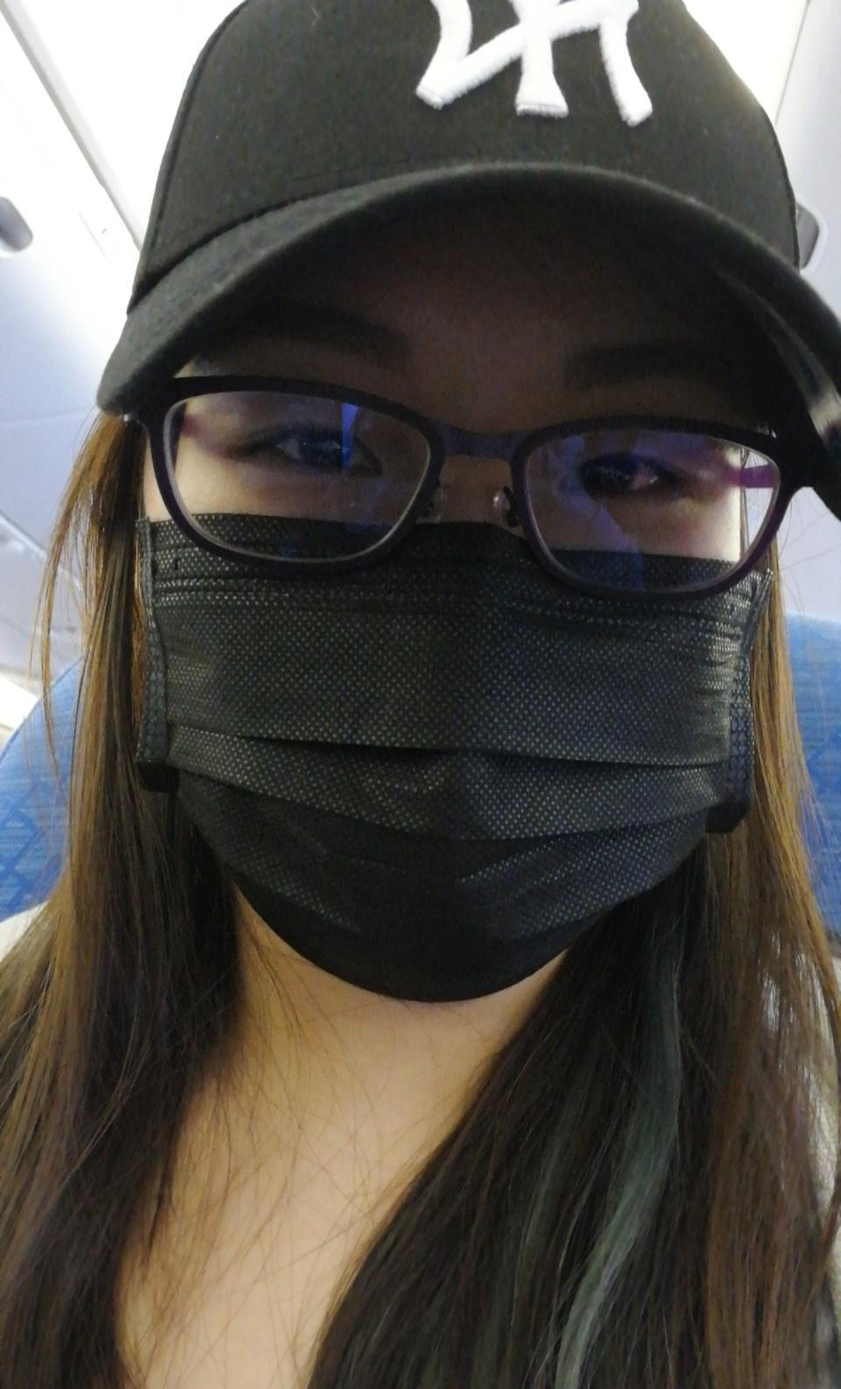OK: (110, 286, 777, 985)
